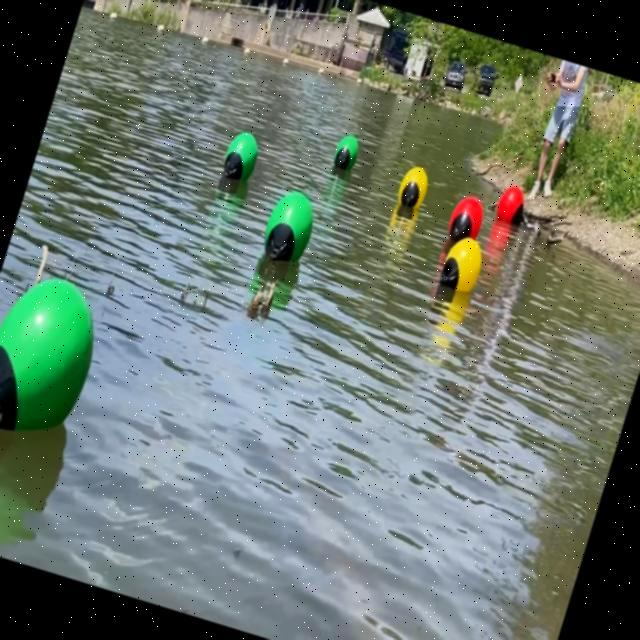buoy: (0, 260, 113, 461), (254, 182, 322, 272), (434, 231, 488, 301), (218, 125, 264, 186), (442, 190, 486, 250), (393, 162, 433, 215), (492, 181, 534, 230), (329, 132, 361, 176)
